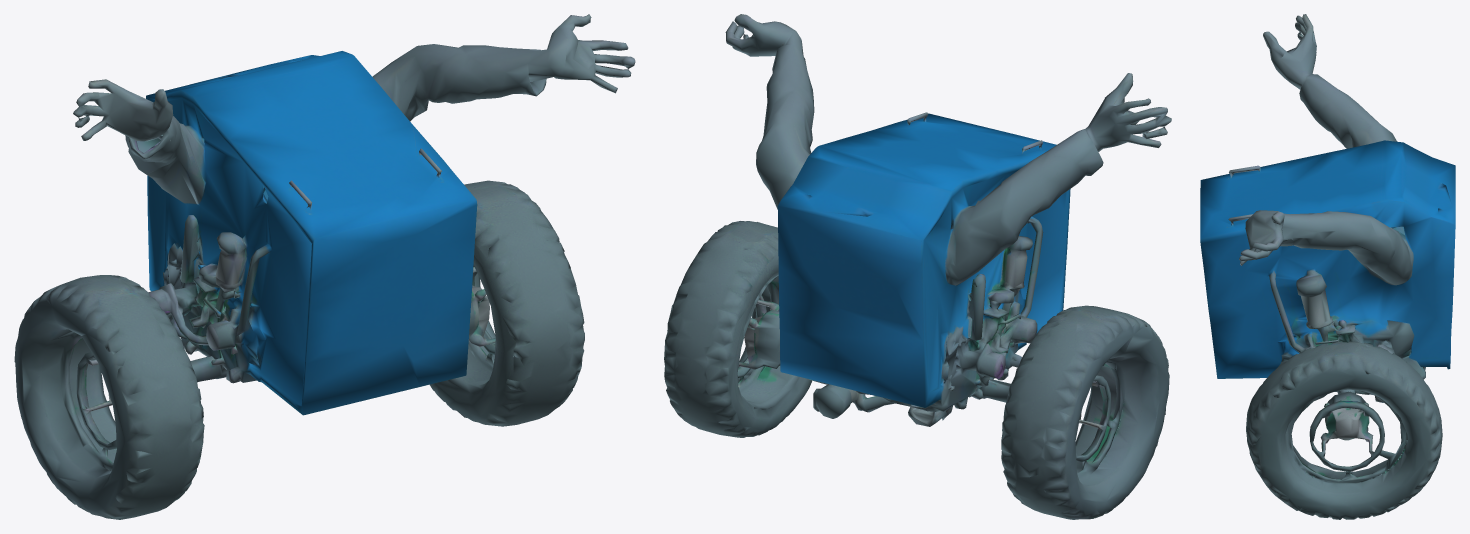
3 renders of one model, left to right at view 1: azimuth 30°, elevation 25°; view 2: azimuth 150°, elevation 25°; view 3: azimuth 270°, elevation 25°, orthographic. The views are drawn at different scales.
Parts seen in each view (by area): view 1: Mesh_0; view 2: Mesh_0; view 3: Mesh_0.
Boxes of the visible parts, left/top/right/bottom form: Mesh_0: left=14, top=14, right=635, bottom=519; Mesh_0: left=664, top=14, right=1171, bottom=519; Mesh_0: left=1200, top=14, right=1455, bottom=519.
Size of the model in its own units: 54.83 by 45 by 30.58.
Materials: 1 (1 with a texture image).
